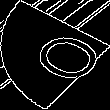O_SE: (8, 22, 102, 88)
